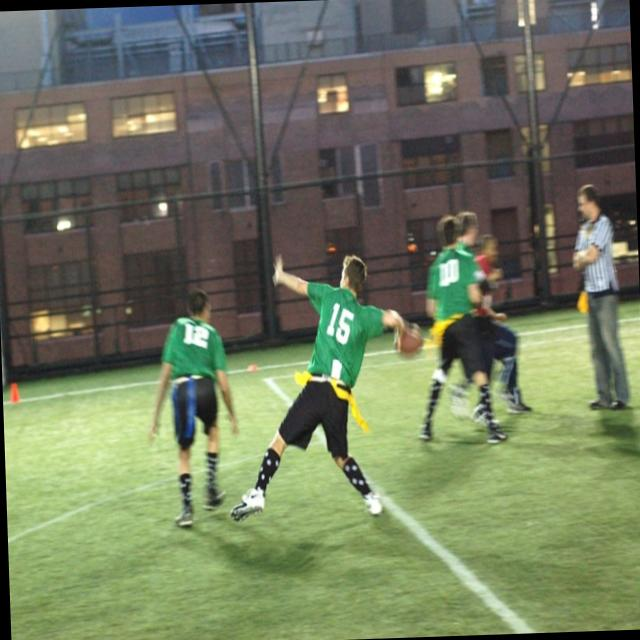Ball: (393, 324, 424, 352)
